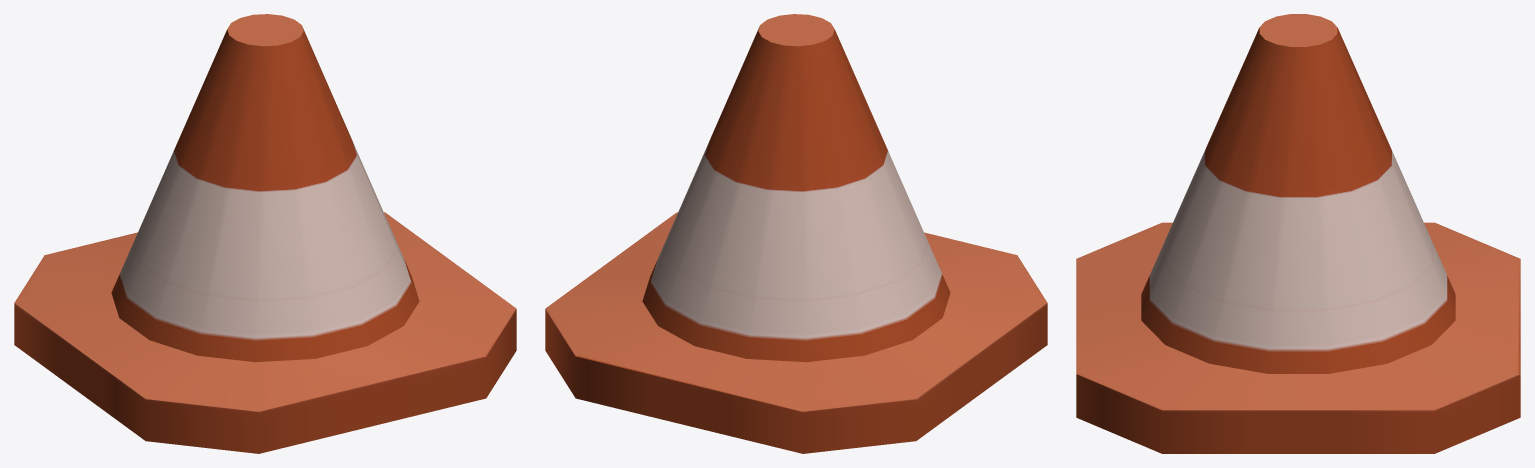
The picture shows the model from 3 angles, left to right: view 1: azimuth 30°, elevation 25°; view 2: azimuth 150°, elevation 25°; view 3: azimuth 270°, elevation 25°; orthographic projection. The views are drawn at different scales.
Visible parts, largest first — view 1: Cone; view 2: Cone; view 3: Cone.
Part boxes in pixels (x1,y1,x2,y2): Cone: [14, 14, 516, 453]; Cone: [545, 14, 1047, 453]; Cone: [1076, 14, 1520, 453].
Bounding box in the file's own units: 0.8834 × 0.7229 × 0.8834.
1 material, 1 textured.
